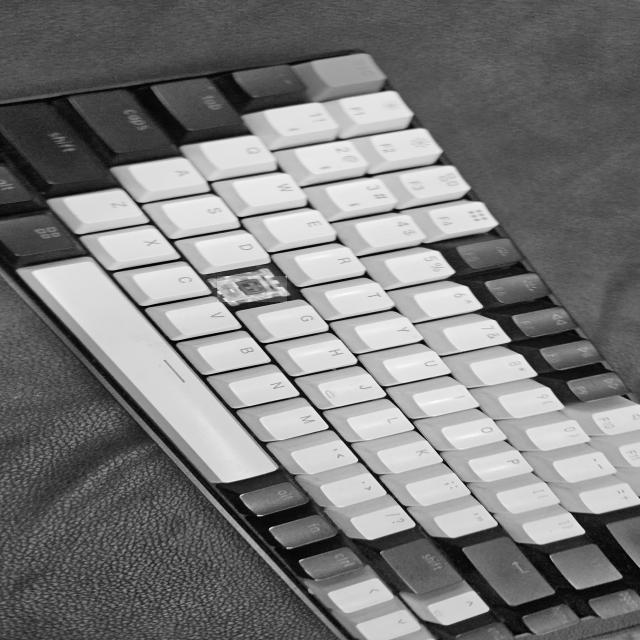C: (218, 276, 288, 302)
